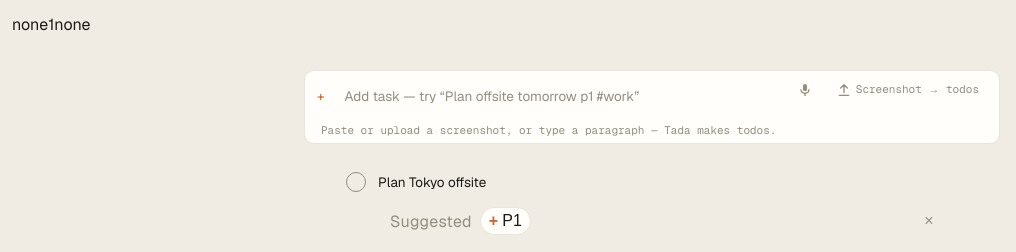
Test case: TodoListView — enrichment chip acceptance on the row › accepting a priority chip patches the todo and clears the enrichment offer
The width and height of the screenshot is (1016, 252).
Expected: the text with test id "prios" reads "none", [12,14,48,35]
Click the button named "add p1" at (505, 221), box [480,207,531,235]
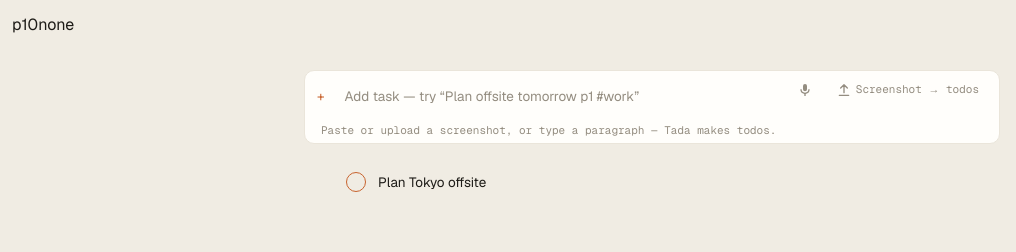
Now the text with test id "prios" reads "p1", box [12,14,28,35]
Now the text with test id "enrichment-chip-count" reads "0", box [28,14,38,35]
